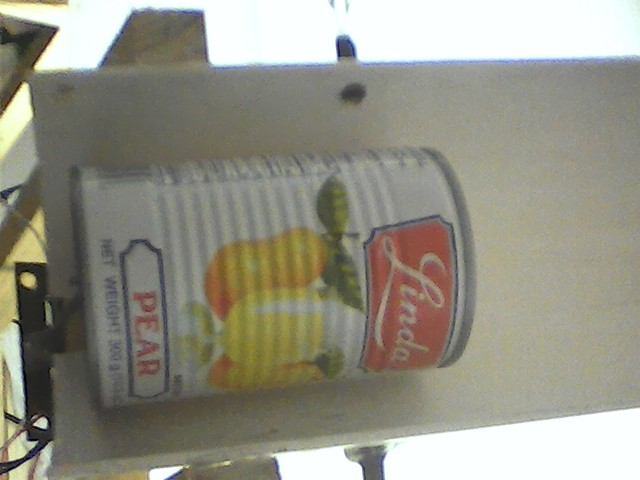lata: (67, 135, 488, 422)
